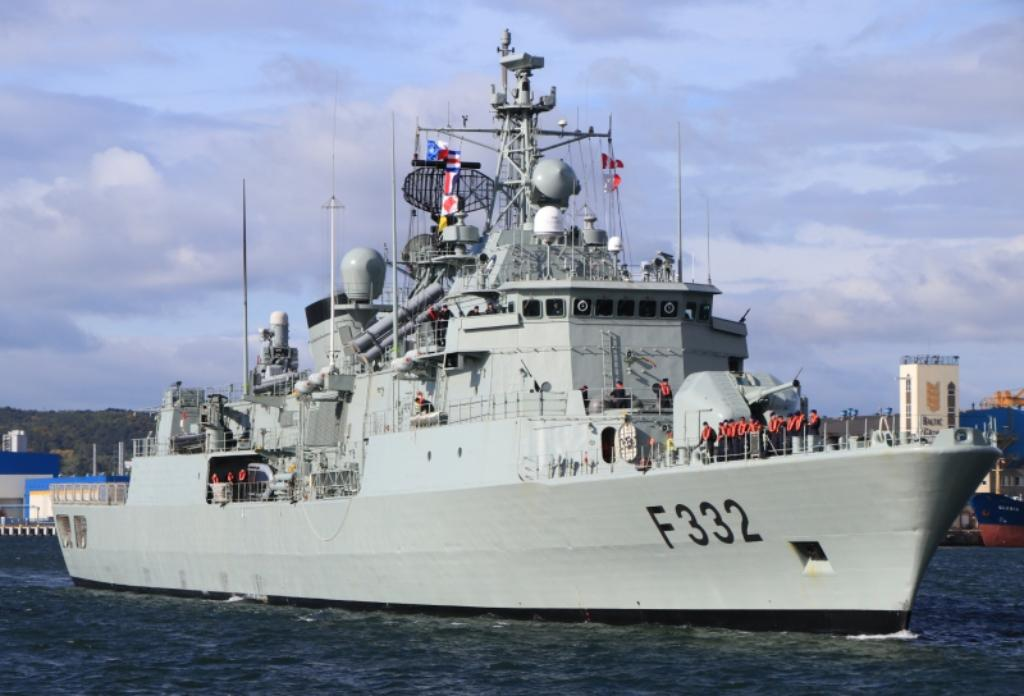Warship: (42, 34, 1002, 648)
